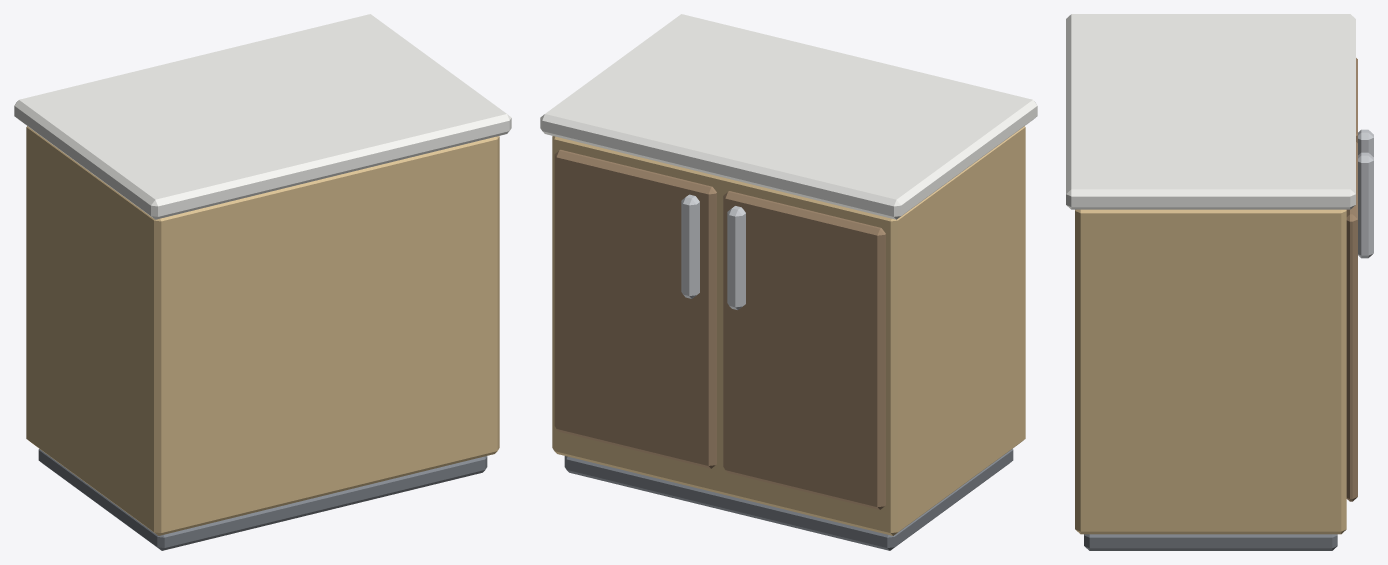
3 renders of one model, left to right at view 1: azimuth 30°, elevation 25°; view 2: azimuth 150°, elevation 25°; view 3: azimuth 270°, elevation 25°, orthographic. The views are drawn at different scales.
Parts seen in each view (by area): view 1: 柜体.003, 台面, 底脚; view 2: 门板.002, 柜体.003, 台面, 底脚, 把手.003; view 3: 柜体.003, 台面, 底脚, 门板.002, 把手.003.
Boxes of the visible parts, x1,y1,x2,y2 form: 柜体.003: (26, 126, 499, 535); 台面: (14, 14, 511, 219); 底脚: (38, 449, 487, 550); 门板.002: (554, 149, 885, 509); 柜体.003: (552, 126, 1025, 535); 台面: (540, 14, 1037, 219); 底脚: (564, 449, 1013, 550); 把手.003: (681, 194, 745, 309); 柜体.003: (1075, 209, 1346, 534); 台面: (1066, 14, 1355, 209); 底脚: (1084, 534, 1337, 550); 门板.002: (1346, 58, 1357, 501); 把手.003: (1358, 129, 1373, 258).
Size of the model in its own units: 94 by 90 by 68.
